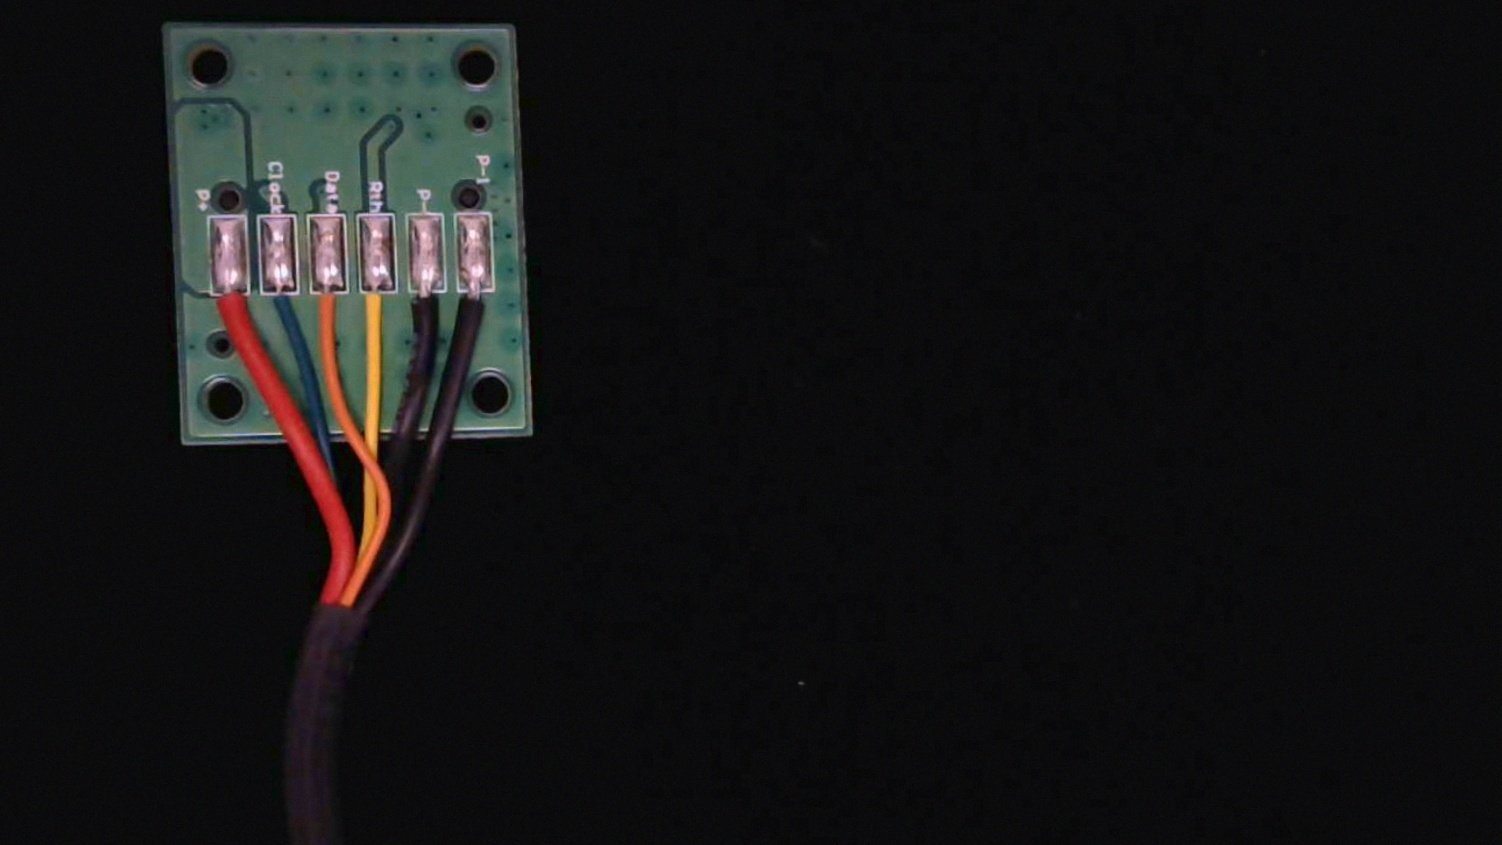Black: (405, 271, 449, 350)
Black1: (455, 271, 496, 354)
Green: (259, 271, 300, 346)
Orange: (308, 274, 350, 353)
Red: (208, 277, 253, 363)
Yellow: (355, 271, 395, 352)
